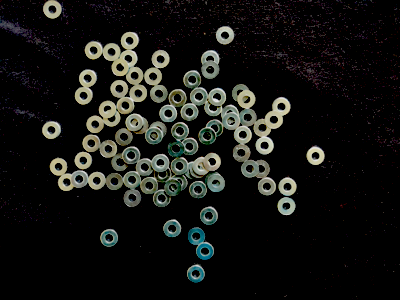circle: (237, 90, 257, 109), (144, 67, 163, 87), (238, 109, 258, 128), (193, 156, 211, 177), (100, 229, 119, 248), (163, 220, 182, 239), (200, 207, 219, 226), (307, 147, 326, 166), (272, 98, 291, 117), (110, 80, 129, 99), (252, 160, 271, 179), (115, 128, 134, 147), (150, 85, 169, 104), (169, 89, 188, 108), (153, 190, 172, 209), (189, 181, 208, 200), (171, 122, 190, 141), (222, 112, 241, 131), (203, 153, 222, 172), (256, 136, 274, 156), (221, 106, 241, 124), (234, 125, 252, 145), (187, 266, 206, 284), (196, 243, 215, 261), (279, 178, 297, 197), (216, 27, 235, 45), (201, 52, 220, 70), (43, 1, 62, 19), (103, 43, 121, 62), (75, 87, 93, 106), (43, 122, 61, 141), (265, 112, 284, 130), (106, 173, 124, 192), (123, 189, 141, 208), (152, 50, 170, 69), (117, 97, 136, 115), (111, 154, 130, 172), (241, 160, 260, 178), (258, 178, 276, 197), (141, 177, 159, 196), (154, 165, 172, 184), (149, 122, 168, 140), (129, 85, 148, 103), (191, 88, 209, 107), (209, 88, 227, 107), (204, 99, 223, 117), (205, 172, 223, 191), (207, 175, 226, 193), (188, 228, 206, 246), (278, 198, 296, 216), (202, 61, 220, 79), (85, 42, 103, 60), (121, 32, 139, 50), (50, 159, 68, 177), (254, 119, 272, 137), (232, 84, 250, 102), (58, 174, 76, 192), (83, 135, 101, 153), (75, 152, 93, 170), (100, 140, 118, 158), (120, 50, 138, 68), (126, 67, 144, 85), (99, 101, 117, 119), (123, 147, 141, 165), (123, 172, 141, 190), (136, 159, 154, 177), (152, 154, 170, 172), (126, 114, 144, 132), (160, 105, 178, 123), (181, 104, 199, 122), (184, 71, 202, 89), (170, 174, 188, 192), (171, 158, 189, 176), (190, 161, 208, 179), (89, 172, 106, 191), (168, 140, 185, 159), (233, 145, 252, 162), (72, 171, 89, 189), (87, 116, 104, 134), (112, 59, 129, 77), (104, 110, 121, 128), (146, 128, 164, 145), (165, 179, 182, 197), (182, 138, 199, 156), (207, 120, 224, 138), (185, 162, 202, 180), (80, 70, 97, 87), (132, 118, 149, 135), (199, 128, 216, 145)
